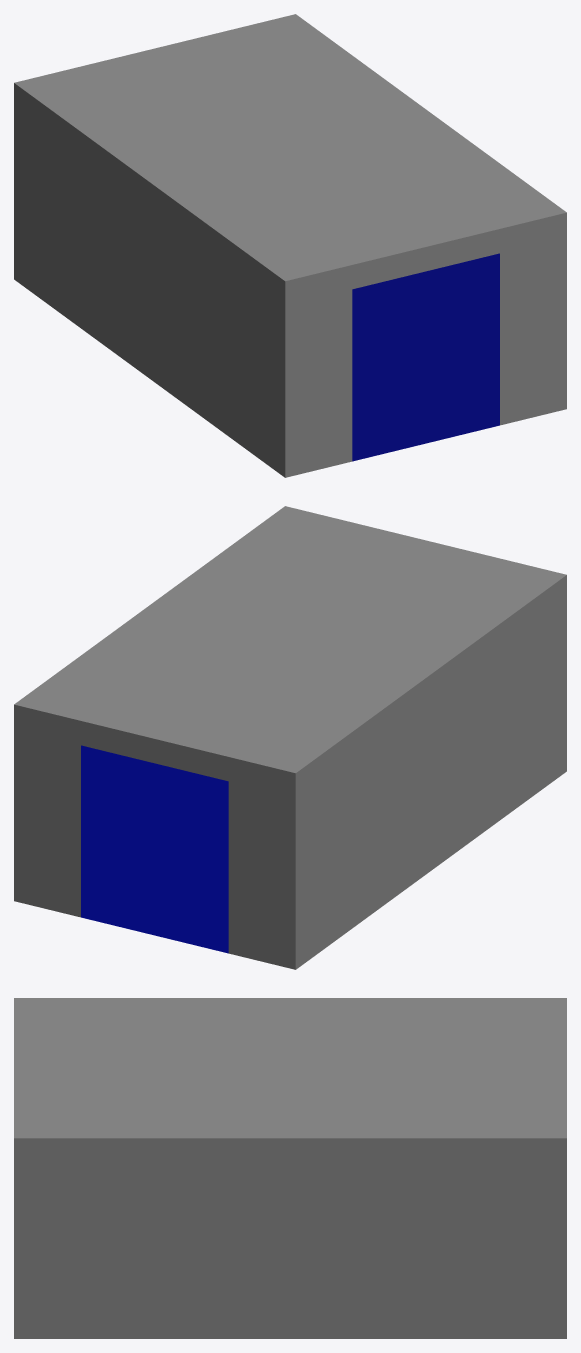
File: TutorialLevel_Airlock.fbx
The picture shows the model from 3 angles, top to bottom: view 1: azimuth 30°, elevation 25°; view 2: azimuth 150°, elevation 25°; view 3: azimuth 270°, elevation 25°; orthographic projection.
Visible parts, largest first — view 1: TutorialLevel_Airlock; view 2: TutorialLevel_Airlock; view 3: TutorialLevel_Airlock.
Boxes of the visible parts, x1,y1,x2,y2 form: TutorialLevel_Airlock: (14, 14, 566, 477); TutorialLevel_Airlock: (14, 506, 566, 969); TutorialLevel_Airlock: (14, 998, 566, 1338).
Size of the model in its own units: 420 by 280 by 700.
